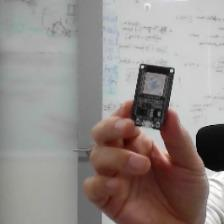esp32: (130, 62, 176, 131)
